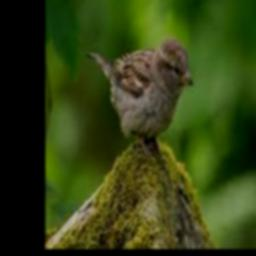Sparrow: (87, 35, 194, 154)
